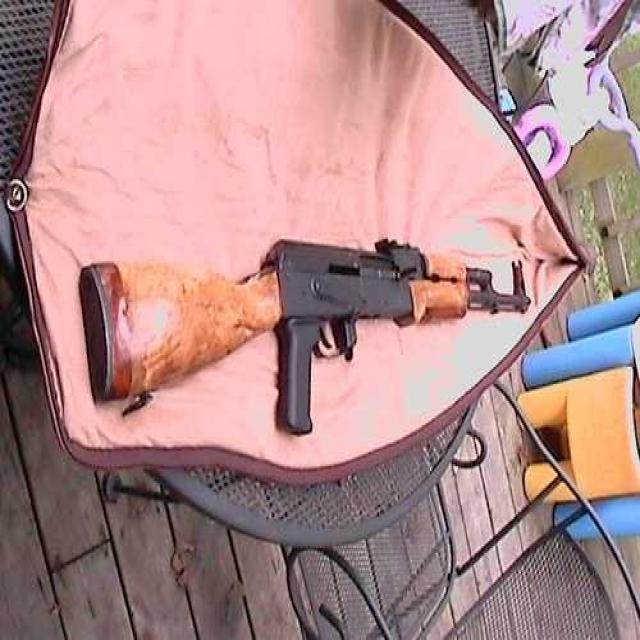weapon: (58, 217, 568, 449)
